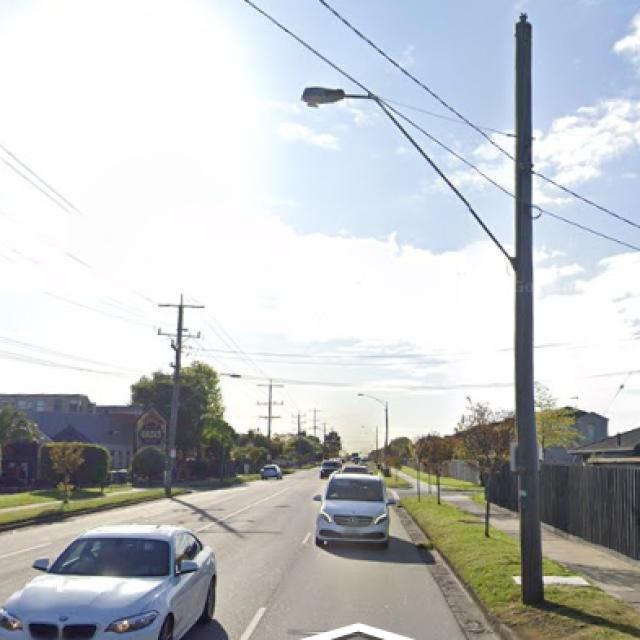crossarm: (158, 327, 201, 339), (157, 300, 205, 310), (257, 382, 286, 390), (254, 399, 284, 406), (258, 414, 280, 421)
streetlight: (299, 84, 516, 272), (357, 392, 385, 409)
timber-pole: (512, 11, 544, 603), (163, 291, 185, 496), (265, 376, 275, 464), (382, 402, 390, 477)
